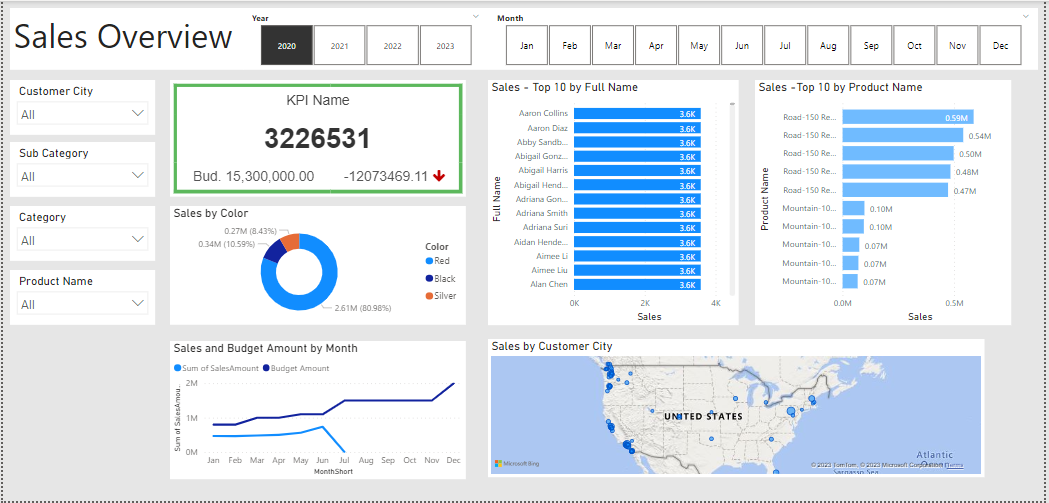

What the dashboard file says about the page in this screenshot:
{"tool":"powerbi","page":{"name":"Page 1","canvas":[1500,720],"ordinal":0},"visuals":[{"type":"textbox","box":[10.1,10.1,335.5,89.3],"z":0},{"type":"slicer","fields":{"Values":["DIM_CUSTOMER1.Customer City"]},"box":[10.1,113.8,208.8,79.2],"z":1000},{"type":"slicer","fields":{"Values":["DIM_PRODUCT1.Sub Category"]},"box":[10.1,203,208.8,79.2],"z":2000},{"type":"slicer","fields":{"Values":["DIM_PRODUCT1.Category"]},"box":[10.1,295.2,208.8,79.2],"z":3000},{"type":"slicer","fields":{"Values":["DIM_PRODUCT1.Product Name"]},"box":[10.1,387.4,208.8,79.2],"z":4000},{"type":"slicer","fields":{"Values":["DIM_CALENDAR1.Date.Variation.Date Hierarchy.Year"]},"box":[345.6,10.1,352.8,89.3],"z":5000},{"type":"slicer","fields":{"Values":["DIM_CALENDAR1.MonthShort"]},"box":[698.4,10.1,792,89.3],"z":6000},{"type":"BBED0A4D4D8D44CE93CF2DAFADEE466C","fields":{"actual":["Key Measures.Sales"],"target1":["Key Measures.Budget Amount"],"target2":["Key Measures.Sales - Budget"]},"box":[240.5,113.8,426.2,168.5],"z":7000},{"type":"donutChart","fields":{"Category":["DIM_PRODUCT1.Color"],"Y":["FACT_INTERNETSALES1.Sales"]},"box":[240.4,294.7,426.5,171.2],"z":8000},{"type":"lineStackedColumnComboChart","title":"Sales and Budget Amount by Month","fields":{"Category":["DIM_CALENDAR1.MonthShort"],"Y2":["FACT_INTERNETSALES1.SalesAmount","Key Measures.Budget Amount"]},"box":[240.4,489,426.5,199.2],"z":9000},{"type":"clusteredBarChart","title":"Sales - Top 10 by Full Name","fields":{"Category":["DIM_CUSTOMER1.Full Name"],"Y":["FACT_INTERNETSALES1.Sales"]},"box":[698.4,113.8,361.4,352.8],"z":10000},{"type":"clusteredBarChart","title":"Sales -Top 10 by Product Name","fields":{"Y":["FACT_INTERNETSALES1.Sales"],"Category":["DIM_PRODUCT1.Product Name"]},"box":[1082.9,113.8,368.6,352.8],"z":11000},{"type":"map","fields":{"Category":["DIM_CUSTOMER1.Customer City"],"Size":["FACT_INTERNETSALES1.Sales"]},"box":[698.6,487,715.1,199.3],"z":11001}]}

Visuals, with their boxes in screenshot pixels (x1, y1, x2, y2), scaled from the page's 1500x720 canvas onto the 1049x503 screenshot:
textbox: [x1=7, y1=7, x2=242, y2=69]
slicer - DIM_CUSTOMER1.Customer City: [x1=7, y1=80, x2=153, y2=135]
slicer - DIM_PRODUCT1.Sub Category: [x1=7, y1=142, x2=153, y2=197]
slicer - DIM_PRODUCT1.Category: [x1=7, y1=206, x2=153, y2=262]
slicer - DIM_PRODUCT1.Product Name: [x1=7, y1=271, x2=153, y2=326]
slicer - DIM_CALENDAR1.Date.Variation.Date Hierarchy.Year: [x1=242, y1=7, x2=488, y2=69]
slicer - DIM_CALENDAR1.MonthShort: [x1=488, y1=7, x2=1042, y2=69]
BBED0A4D4D8D44CE93CF2DAFADEE466C - Key Measures.Sales x Key Measures.Budget Amount: [x1=168, y1=80, x2=466, y2=197]
donutChart - DIM_PRODUCT1.Color x FACT_INTERNETSALES1.Sales: [x1=168, y1=206, x2=466, y2=325]
"Sales and Budget Amount by Month" lineStackedColumnComboChart: [x1=168, y1=342, x2=466, y2=481]
"Sales - Top 10 by Full Name" clusteredBarChart: [x1=488, y1=80, x2=741, y2=326]
"Sales -Top 10 by Product Name" clusteredBarChart: [x1=757, y1=80, x2=1015, y2=326]
map - DIM_CUSTOMER1.Customer City x FACT_INTERNETSALES1.Sales: [x1=489, y1=340, x2=989, y2=479]
